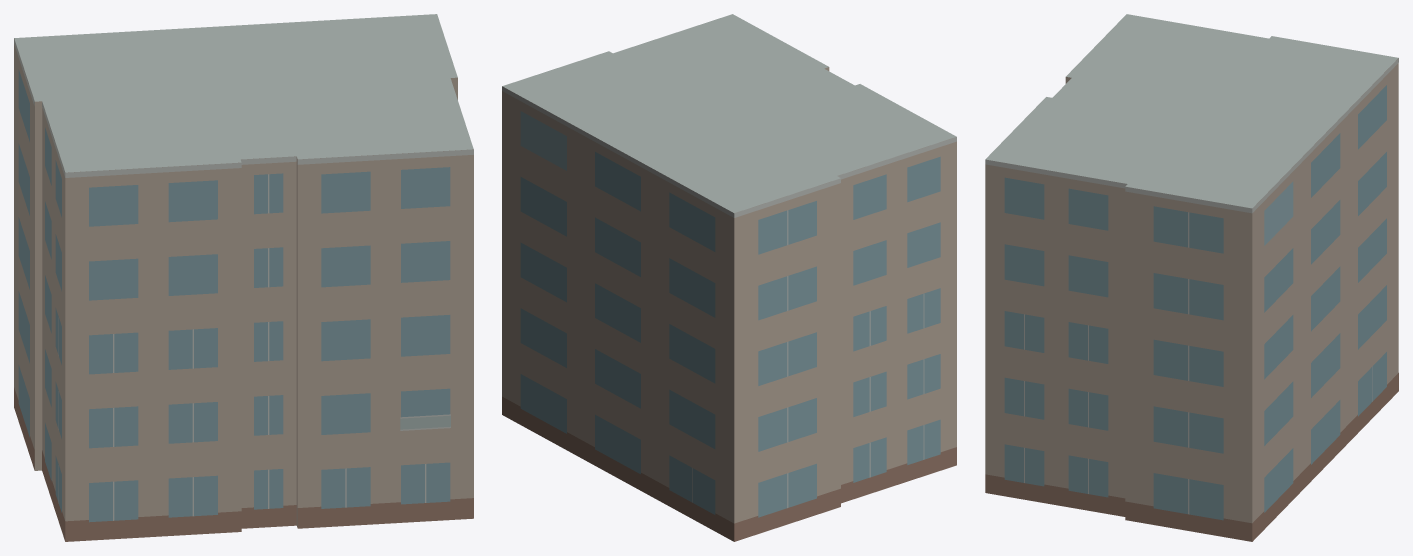
The model's file is survey-upis-32753040.glb.
3 renders of one model, left to right at view 1: azimuth 30°, elevation 25°; view 2: azimuth 150°, elevation 25°; view 3: azimuth 270°, elevation 25°, orthographic. The views are drawn at different scales.
Visible parts, largest first — view 1: survey-upis-32753040.tmp; view 2: survey-upis-32753040.tmp; view 3: survey-upis-32753040.tmp.
Part boxes in pixels (<box>): survey-upis-32753040.tmp: <box>14,14,473,541</box>; survey-upis-32753040.tmp: <box>502,14,956,541</box>; survey-upis-32753040.tmp: <box>985,14,1398,541</box>.
Bounding box in the file's own units: 20.77 × 16.6 × 18.67.
